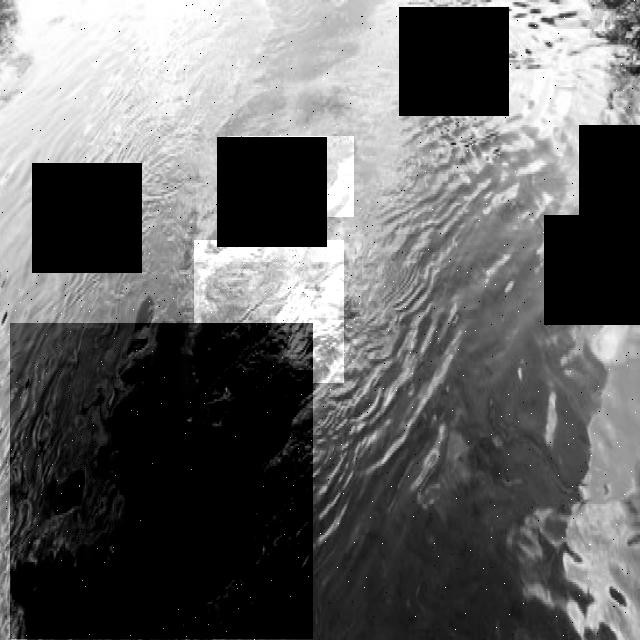oil spill: (11, 323, 313, 639), (195, 241, 344, 383), (228, 136, 354, 217)
